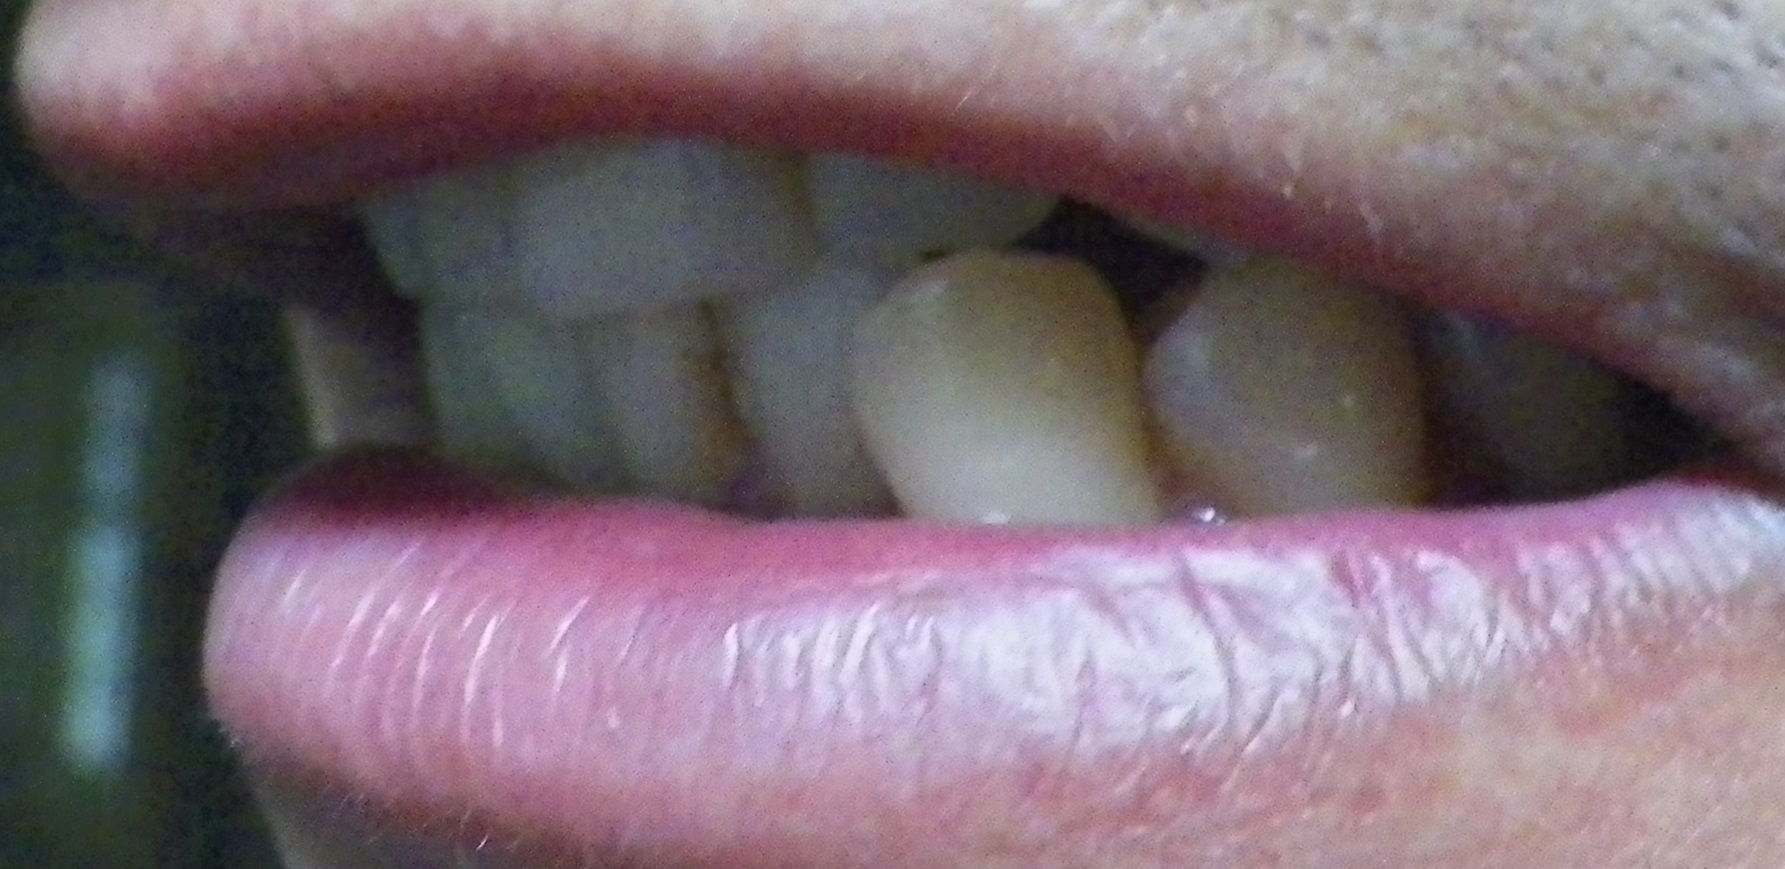boca: (371, 148, 1525, 524)
